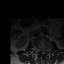CCS_normal: (42, 47, 44, 56)
LFS_severe_stenosis: (45, 48, 47, 52)
LLS_stenosis: (44, 48, 45, 52)
RFS_stenosis: (39, 48, 40, 52)
RLS_stenosis: (40, 48, 42, 52)
